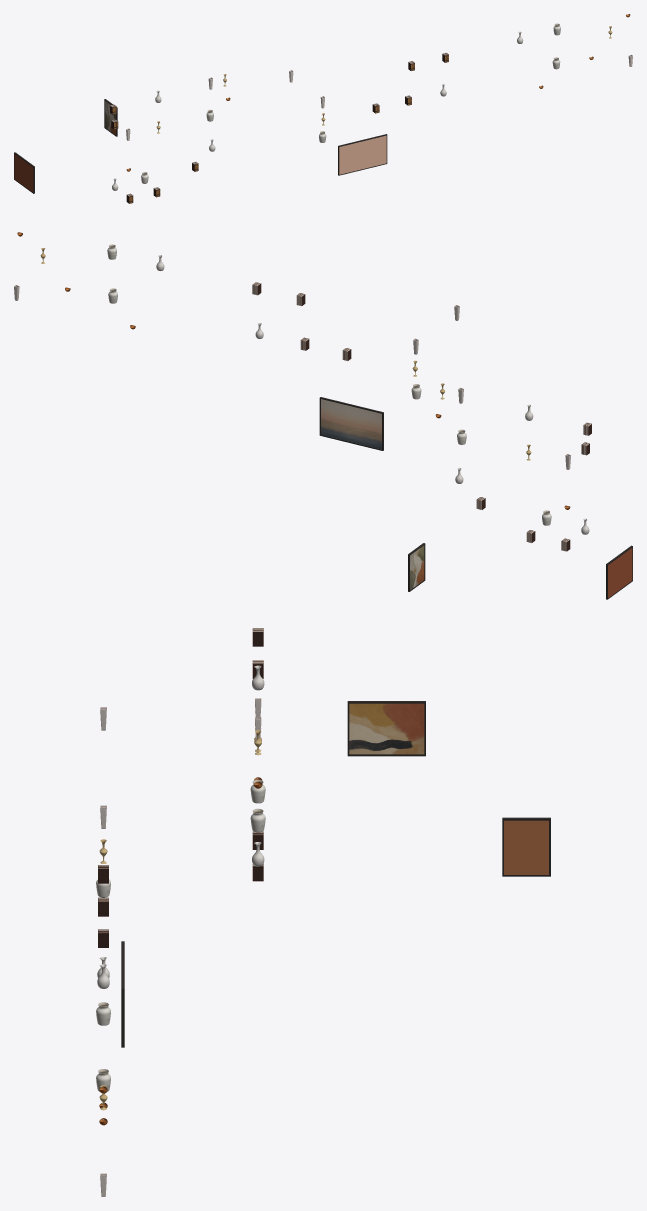
File: salon_arte.glb
3 renders of one model, top to bottom at view 1: azimuth 30°, elevation 25°; view 2: azimuth 150°, elevation 25°; view 3: azimuth 270°, elevation 25°, orthographic. The views are drawn at different scales.
Visible parts, largest first — view 1: ARTE|L1|cuadro|2, ARTE|L1|cuadro|0; view 2: ARTE|L1|cuadro|2, ARTE|L1|cuadro|0, ARTE|L1|cuadro|1; view 3: ARTE|L1|cuadro|0, ARTE|L1|cuadro|1.
Boxes of the visible parts, x1=… form: ARTE|L1|cuadro|2: x1=339, y1=135, x2=386, y2=174; ARTE|L1|cuadro|0: x1=14, y1=154, x2=33, y2=192; ARTE|L1|cuadro|2: x1=321, y1=399, x2=381, y2=449; ARTE|L1|cuadro|0: x1=608, y1=548, x2=632, y2=597; ARTE|L1|cuadro|1: x1=410, y1=545, x2=424, y2=589; ARTE|L1|cuadro|0: x1=349, y1=703, x2=424, y2=754; ARTE|L1|cuadro|1: x1=504, y1=820, x2=548, y2=874.
Bounding box in the file's own units: 18.2 × 4.2 × 6.66.
Materials: 11 (10 with a texture image).
